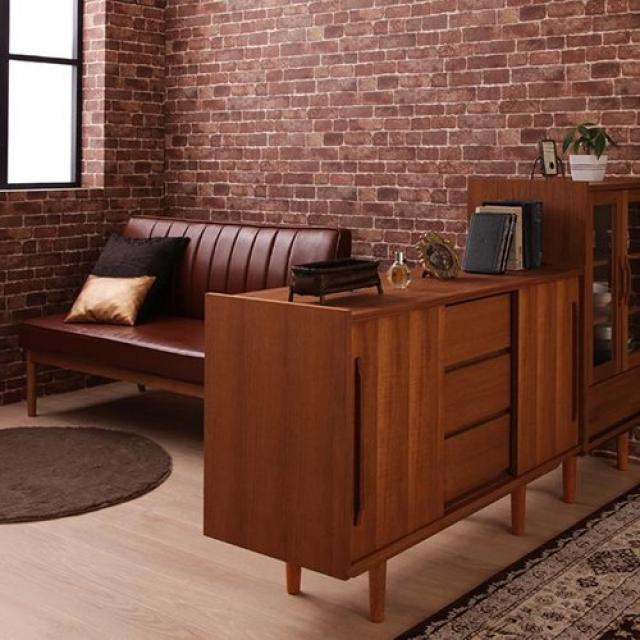vintage shelf: (201, 169, 640, 621)
vintage sofa: (15, 208, 202, 424)
